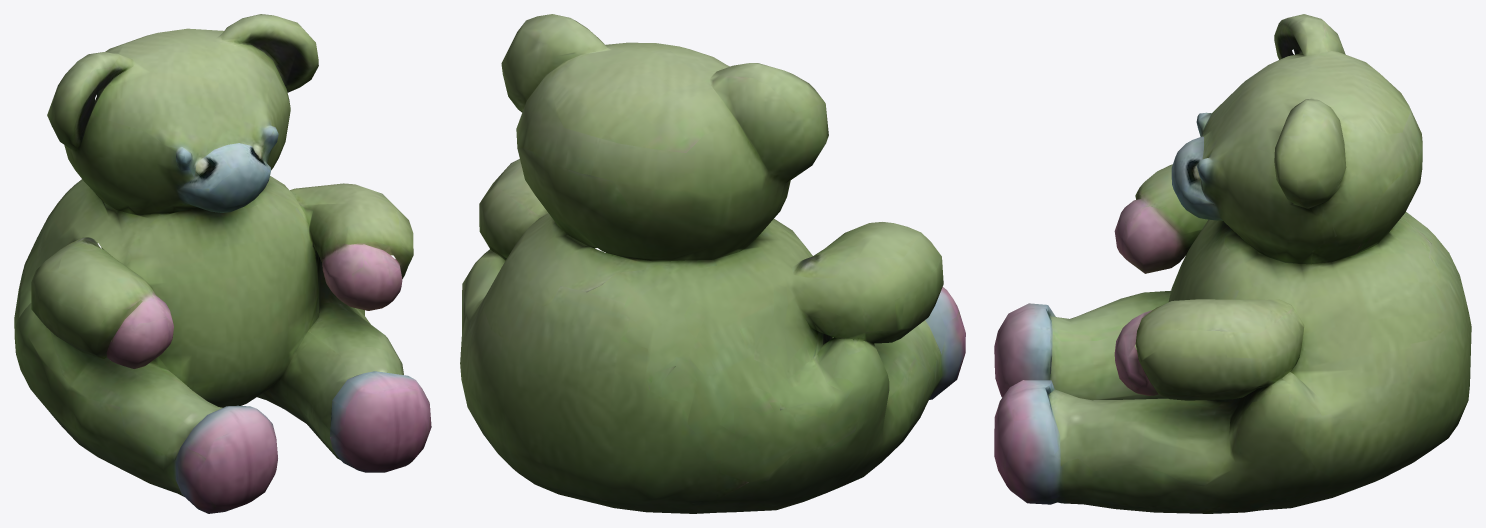
Rendered from teddy.glb.
The picture shows the model from 3 angles, left to right: view 1: azimuth 30°, elevation 25°; view 2: azimuth 150°, elevation 25°; view 3: azimuth 270°, elevation 25°; orthographic projection. The views are drawn at different scales.
Parts seen in each view (by area): view 1: teddy; view 2: teddy; view 3: teddy.
Boxes of the visible parts, left/top/right/bottom form: teddy: left=14, top=14, right=431, bottom=513; teddy: left=460, top=14, right=965, bottom=513; teddy: left=994, top=14, right=1471, bottom=513.
Bounding box in the file's own units: 0.9229 × 0.9185 × 0.9991.
Materials: 1 (1 with a texture image).
